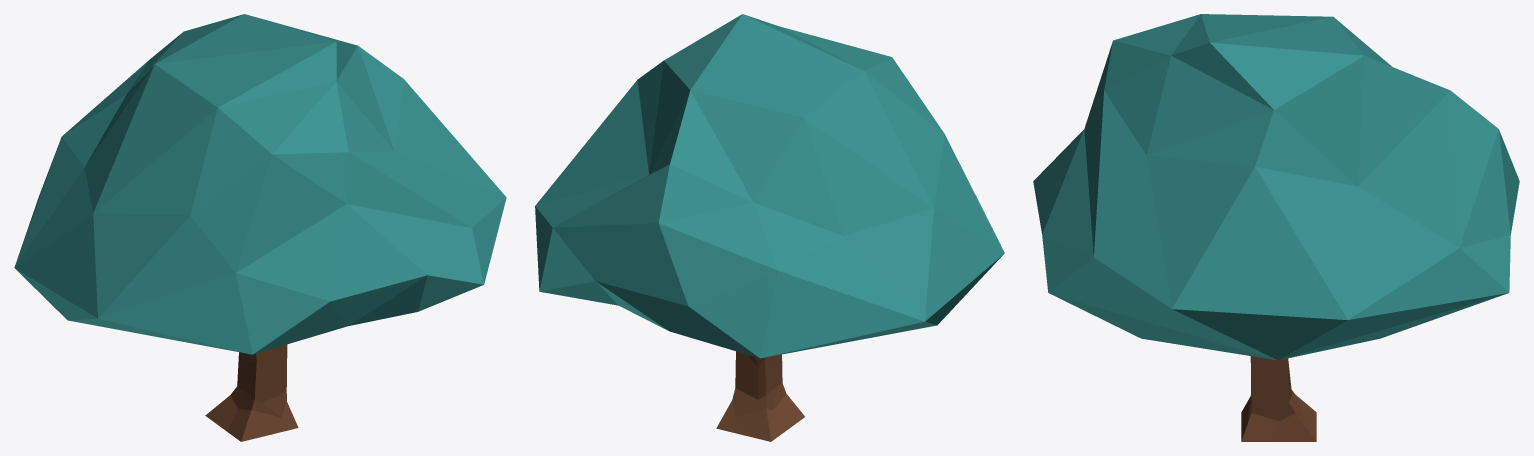
File: Tree_24_Blue.fbx
The picture shows the model from 3 angles, left to right: view 1: azimuth 30°, elevation 25°; view 2: azimuth 150°, elevation 25°; view 3: azimuth 270°, elevation 25°; orthographic projection. The views are drawn at different scales.
Parts seen in each view (by area): view 1: Tree_24_Blue_Part_1, Tree_24_Blue_Part_2; view 2: Tree_24_Blue_Part_1, Tree_24_Blue_Part_2; view 3: Tree_24_Blue_Part_1, Tree_24_Blue_Part_2.
Boxes of the visible parts, x1,y1,x2,y2 form: Tree_24_Blue_Part_1: [14, 14, 506, 354]; Tree_24_Blue_Part_2: [205, 344, 298, 441]; Tree_24_Blue_Part_1: [535, 14, 1004, 358]; Tree_24_Blue_Part_2: [716, 351, 804, 441]; Tree_24_Blue_Part_1: [1033, 14, 1519, 360]; Tree_24_Blue_Part_2: [1241, 356, 1316, 441].
Size of the model in its own units: 806 by 738 by 791.
